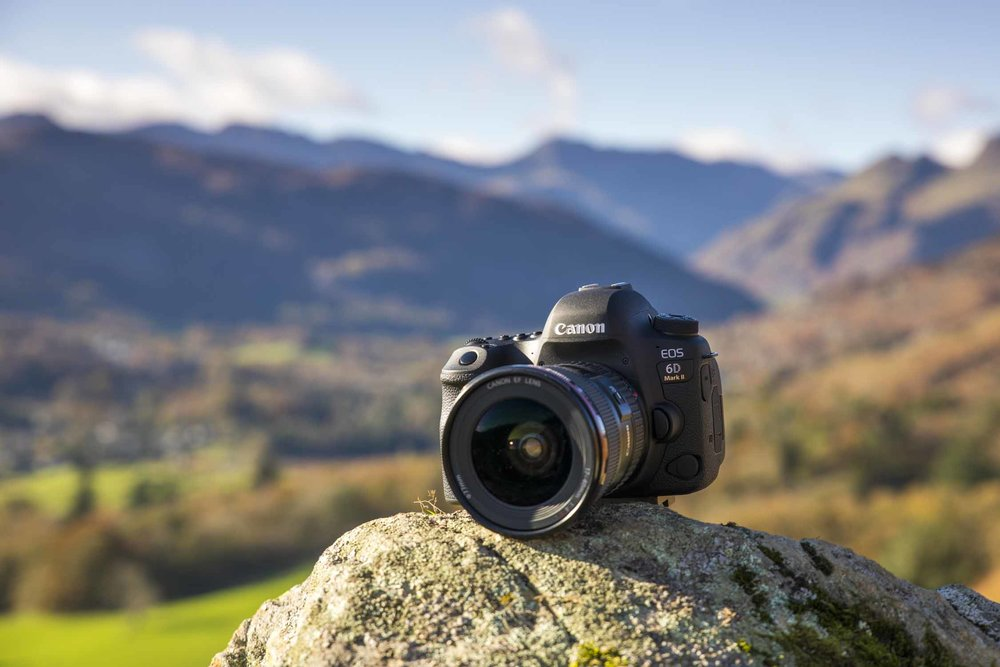camera: (438, 300, 720, 535)
